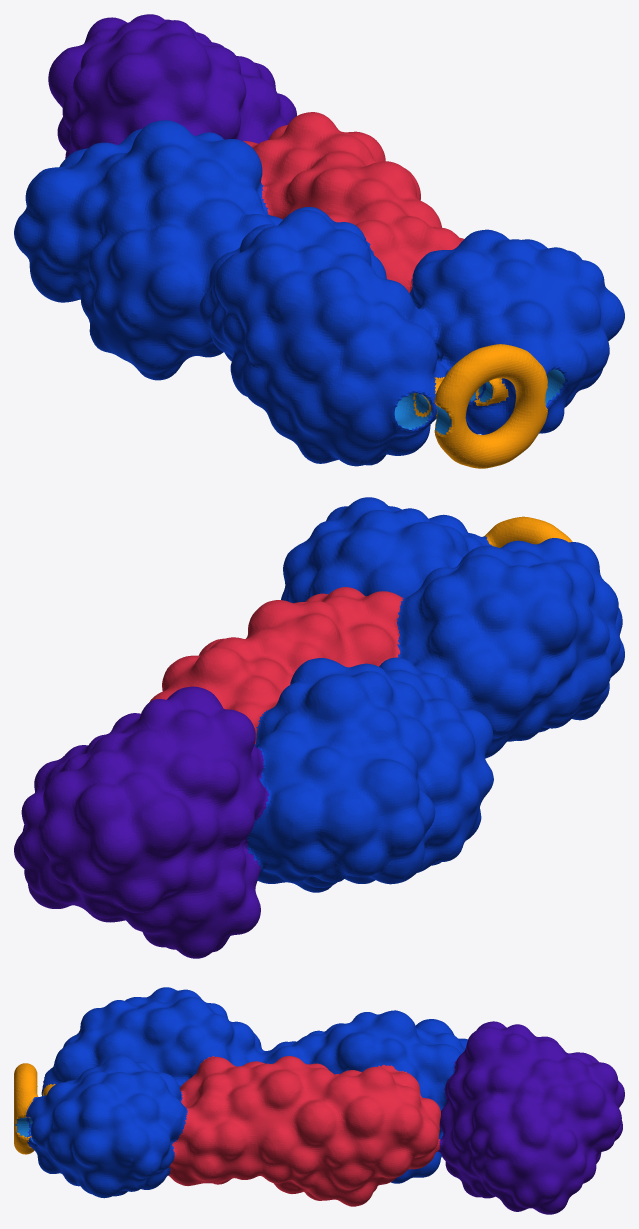
File: IgG_part3_arm_left.obj
3 renders of one model, top to bottom at view 1: azimuth 30°, elevation 25°; view 2: azimuth 150°, elevation 25°; view 3: azimuth 270°, elevation 25°, orthographic. The views are drawn at different scales.
Visible parts, largest first — view 1: IgG_part3_arm_left; view 2: IgG_part3_arm_left; view 3: IgG_part3_arm_left.
Part boxes in pixels (left/top/right/bottom): IgG_part3_arm_left: left=14, top=14, right=624, bottom=468; IgG_part3_arm_left: left=14, top=497, right=624, bottom=958; IgG_part3_arm_left: left=14, top=987, right=624, bottom=1214.
Size of the model in its own units: 44.18 by 29.1 by 93.31.
